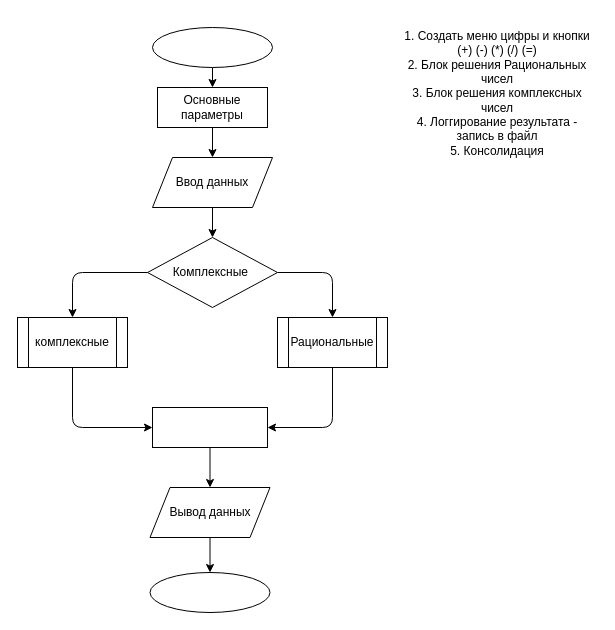
Image size: 615x630. Some labels were removed from this diagram. Here are the shapes that lost their labels. From the top down, the centre of each, then its label:
At [212,47]: "Начало".
At [210,427]: "Блок памяти (логирование)".
At [209,592]: "Конец".
